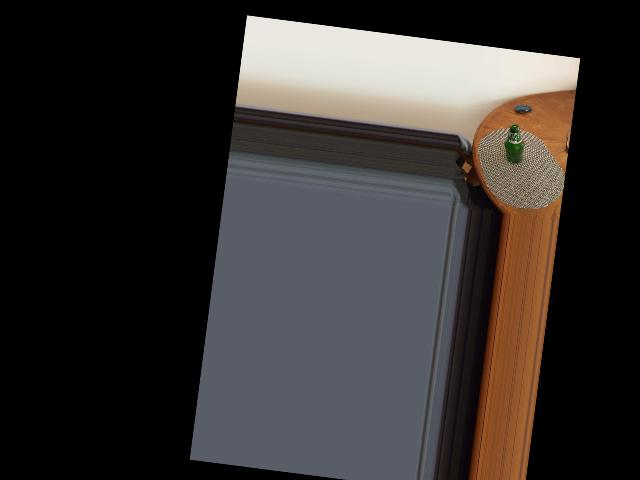beer: (501, 123, 528, 164)
